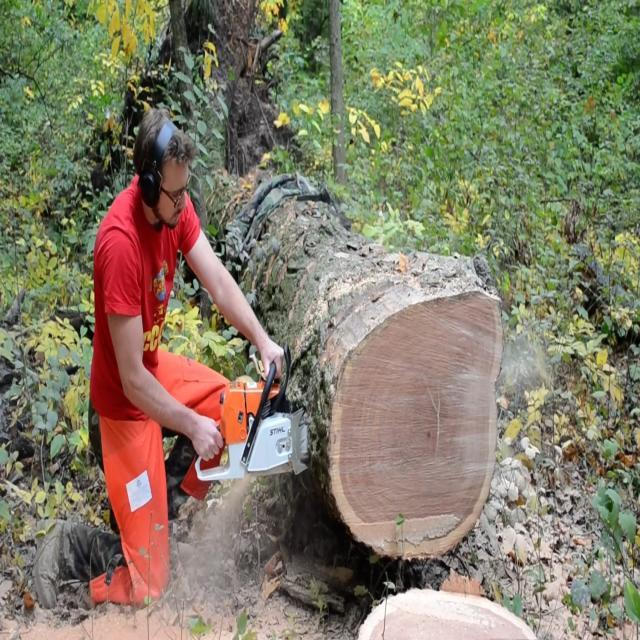Chainsaw: (187, 358, 331, 492)
